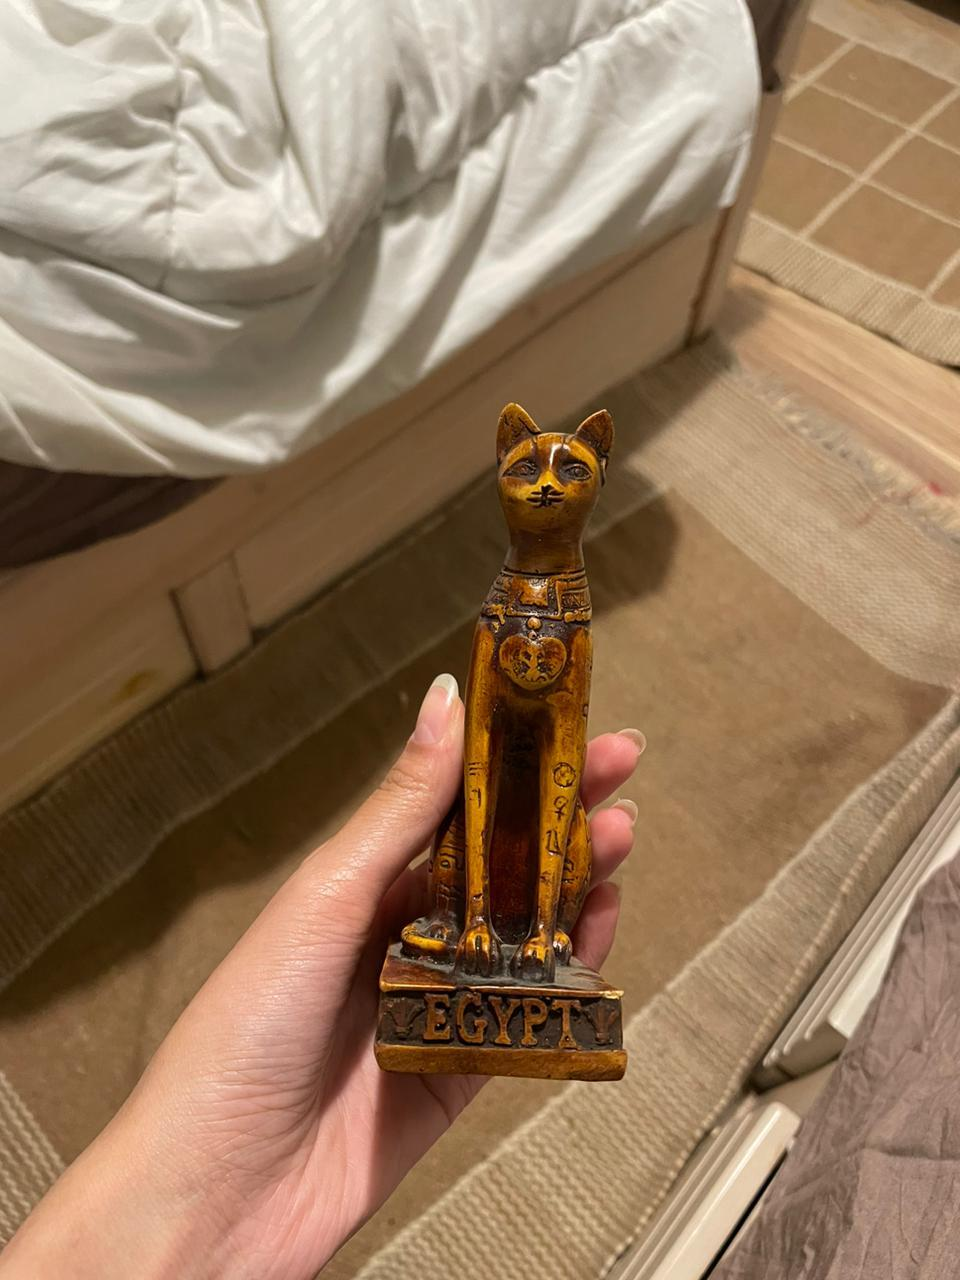Past: (377, 394, 627, 1082)
